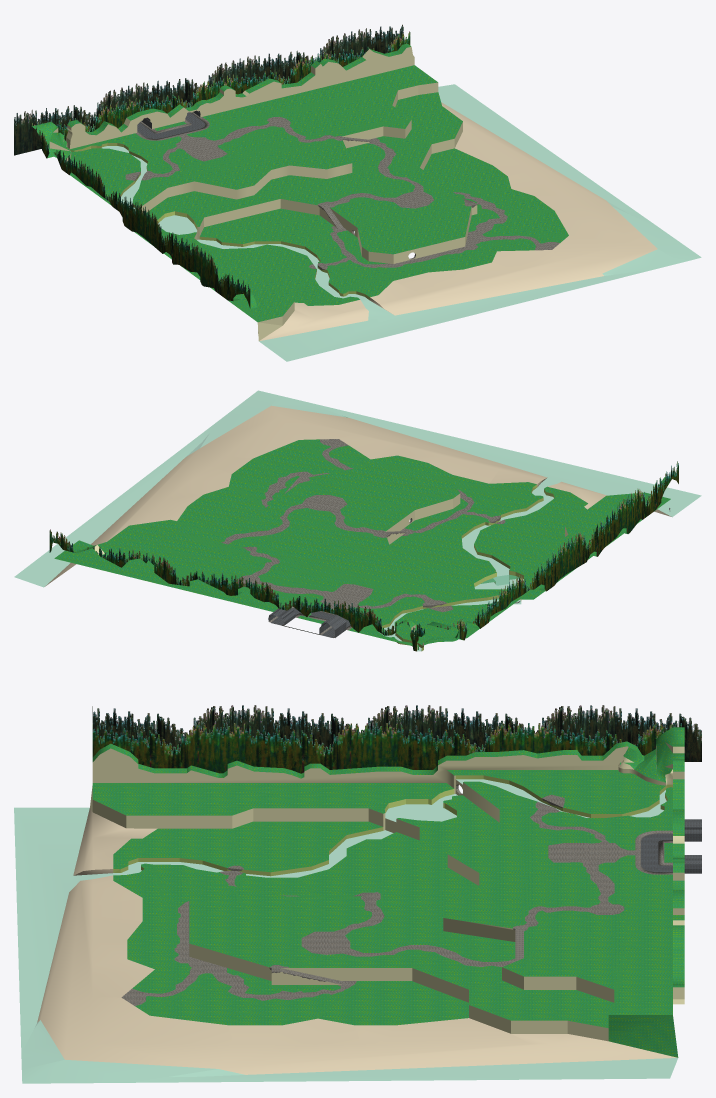
3 renders of one model, top to bottom at view 1: azimuth 30°, elevation 25°; view 2: azimuth 150°, elevation 25°; view 3: azimuth 270°, elevation 25°, orthographic. The views are drawn at different scales.
Parts seen in each view (by area): view 1: Grass1, Mesh2_Chris_Skin_0, Background_trees1, Mesh4_M_0074_SeaGreen_0, Mesh7_M_0057_DarkKhaki_0, Road1, Model, Mesh7_M_0061_OliveDrab_0; view 2: Grass1, Mesh2_Chris_Skin_0, Mesh4_M_0074_SeaGreen_0, Background_trees1, Road1, Model, Mesh7_M_0061_OliveDrab_0, Mesh7_M_0057_DarkKhaki_0; view 3: Grass1, Mesh2_Chris_Skin_0, Background_trees1, Mesh4_M_0074_SeaGreen_0, Mesh7_M_0057_DarkKhaki_0, Model, Road1, Mesh7_M_0061_OliveDrab_0.
Part boxes in pixels (<box>): Grass1: <box>67,65,568,322</box>; Mesh2_Chris_Skin_0: <box>259,102,657,341</box>; Background_trees1: <box>14,24,410,308</box>; Mesh4_M_0074_SeaGreen_0: <box>102,84,701,361</box>; Mesh7_M_0057_DarkKhaki_0: <box>49,46,477,340</box>; Road1: <box>125,112,559,269</box>; Model: <box>32,43,410,308</box>; Mesh7_M_0061_OliveDrab_0: <box>70,143,369,299</box>; Grass1: <box>54,439,670,646</box>; Mesh2_Chris_Skin_0: <box>45,405,671,586</box>; Mesh4_M_0074_SeaGreen_0: <box>14,390,701,651</box>; Background_trees1: <box>49,461,678,651</box>; Road1: <box>221,439,520,637</box>; Model: <box>53,477,665,649</box>; Mesh7_M_0061_OliveDrab_0: <box>382,484,554,651</box>; Mesh7_M_0057_DarkKhaki_0: <box>94,493,568,650</box>; Grass1: <box>92,770,672,1027</box>; Mesh2_Chris_Skin_0: <box>37,808,677,1074</box>; Background_trees1: <box>92,705,701,773</box>; Mesh4_M_0074_SeaGreen_0: <box>14,779,677,1083</box>; Mesh7_M_0057_DarkKhaki_0: <box>90,742,684,1041</box>; Model: <box>92,727,701,1057</box>; Road1: <box>121,784,672,1005</box>; Mesh7_M_0061_OliveDrab_0: <box>113,775,672,876</box>.
Bounding box in the file's own units: 2.35 × 0.3655 × 2.37.
15 materials, 5 textured.
